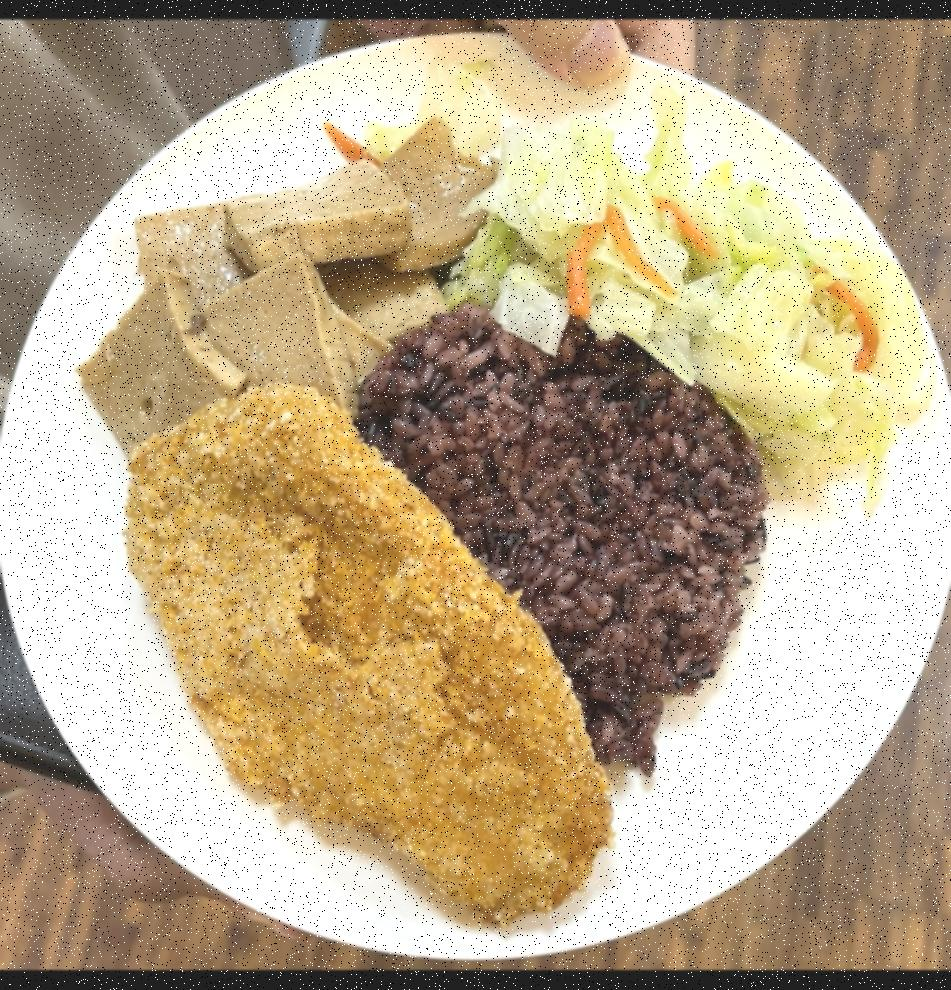chicken steak: (120, 390, 610, 923)
plate: (0, 19, 951, 956)
purple rice: (375, 322, 756, 762)
side dish: (479, 121, 930, 484), (81, 128, 486, 442)
